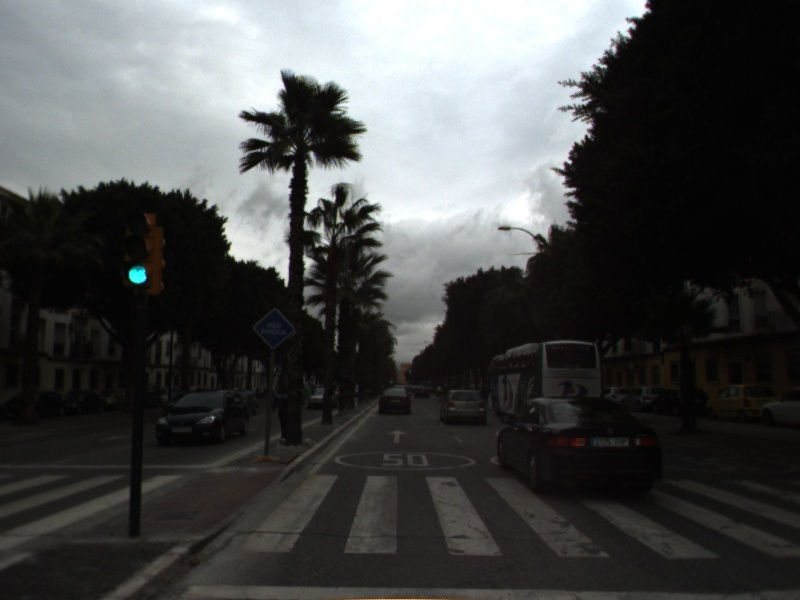STRAIGHT: (385, 427, 411, 446)
